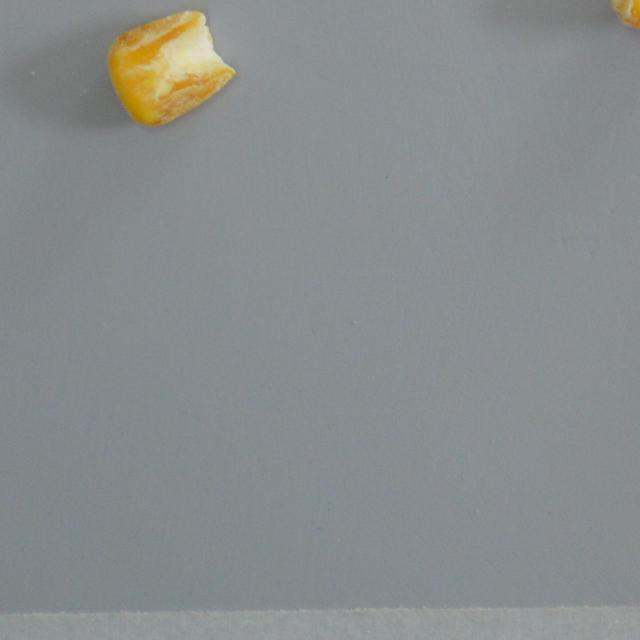pelicula: (106, 10, 234, 128), (610, 0, 640, 29)
